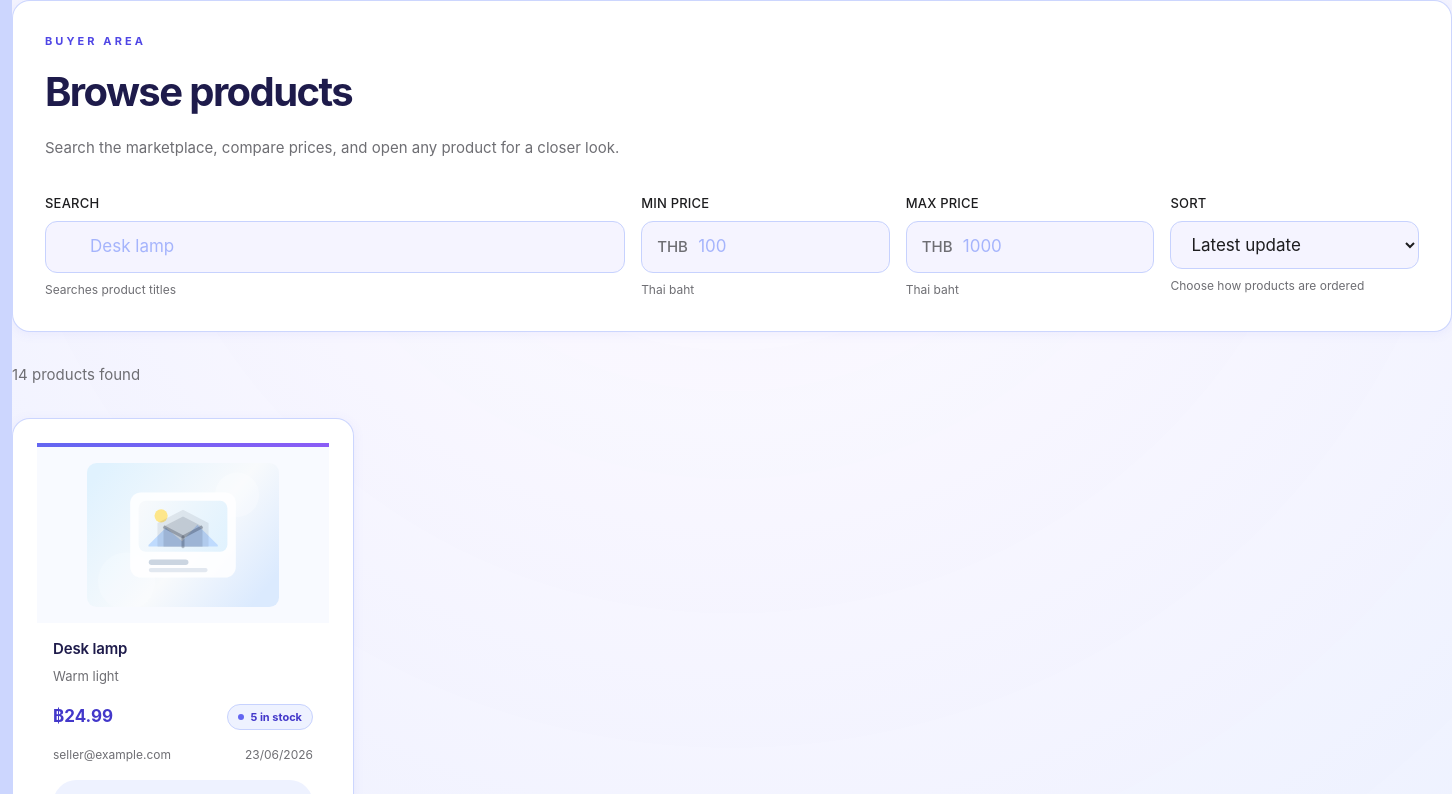
it: BrowseProductsPage › keeps buyer min and max price filters at zero or above
Type "-10" into the number field with placeholder "100".
click(765, 247); type("-10")  # box left=641, top=221, right=890, bottom=272
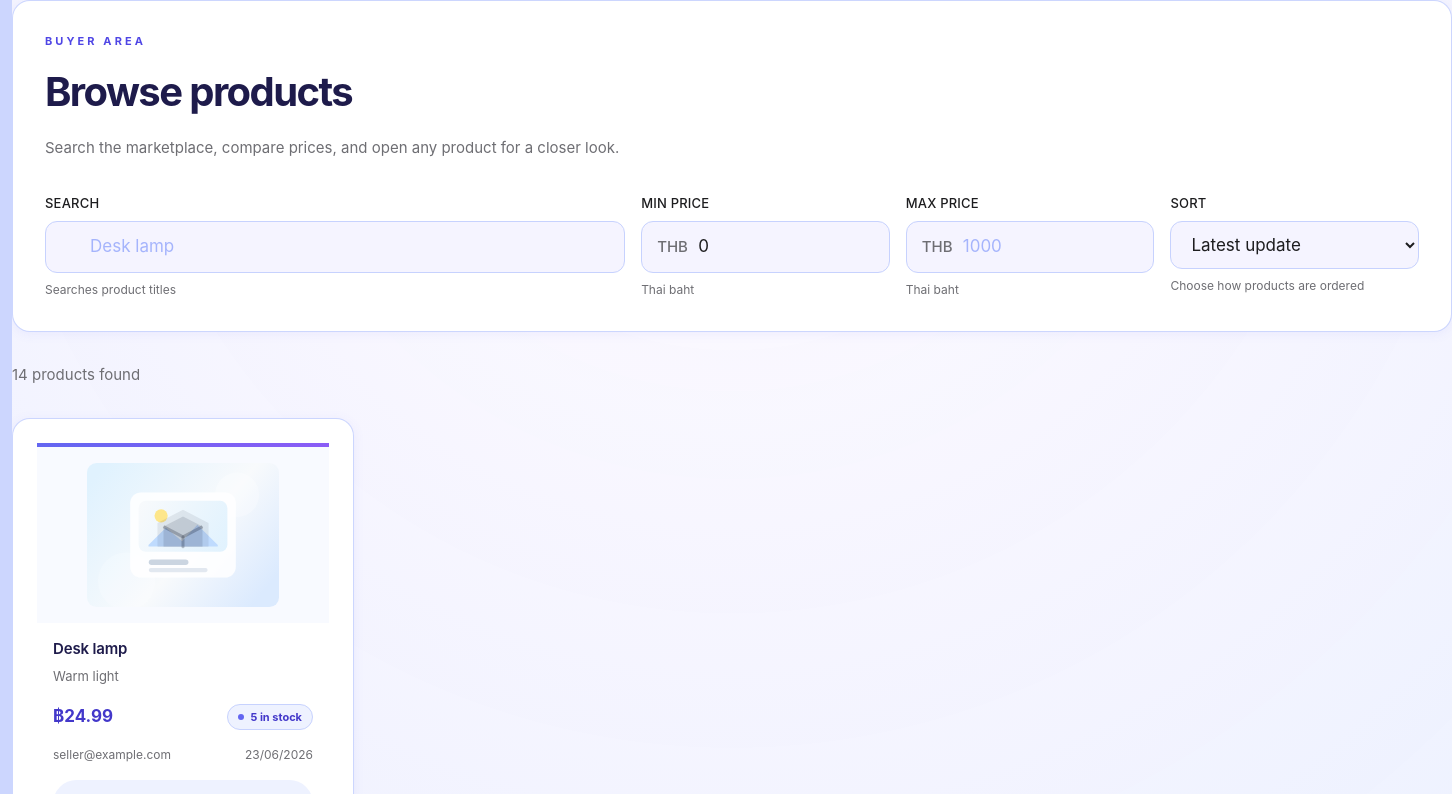
Type "-20" into the number field with placeholder "1000".
click(1030, 247); type("-20")  # box left=906, top=221, right=1154, bottom=272
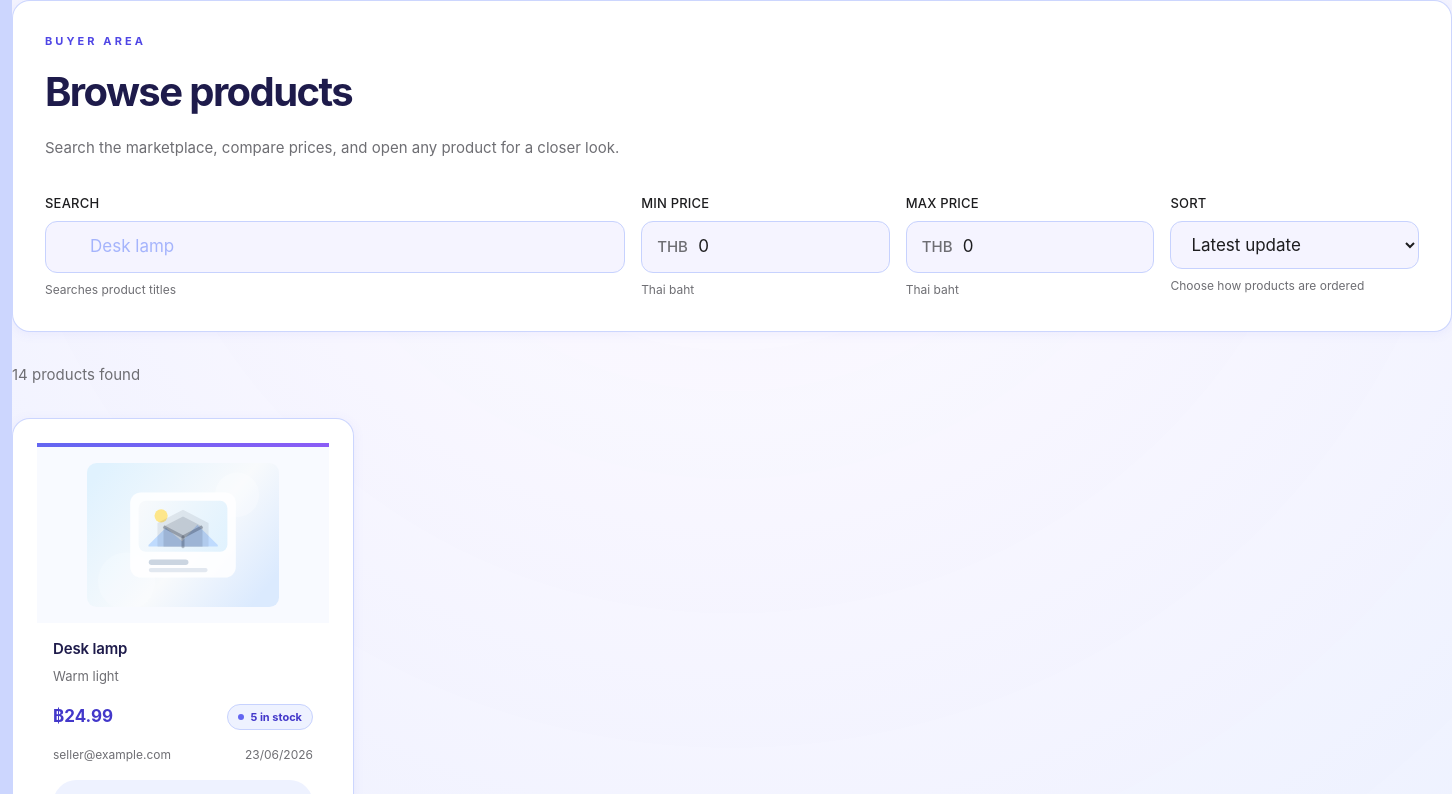
Expected: the number field with placeholder "100" holds "0", left=641, top=221, right=890, bottom=272
Expected: the number field with placeholder "1000" holds "0", left=906, top=221, right=1154, bottom=272
